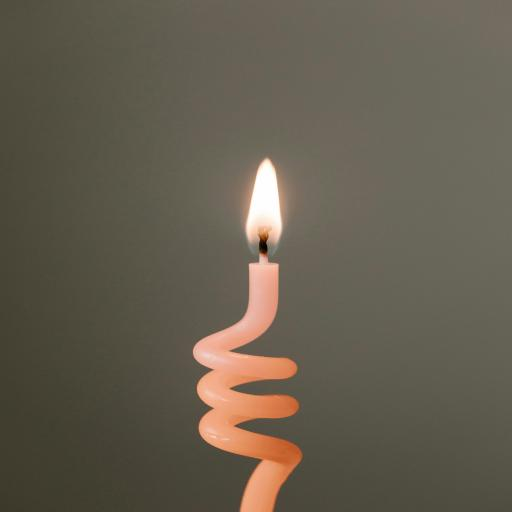candlelight: (164, 104, 362, 346)
fire: (228, 162, 298, 255)
